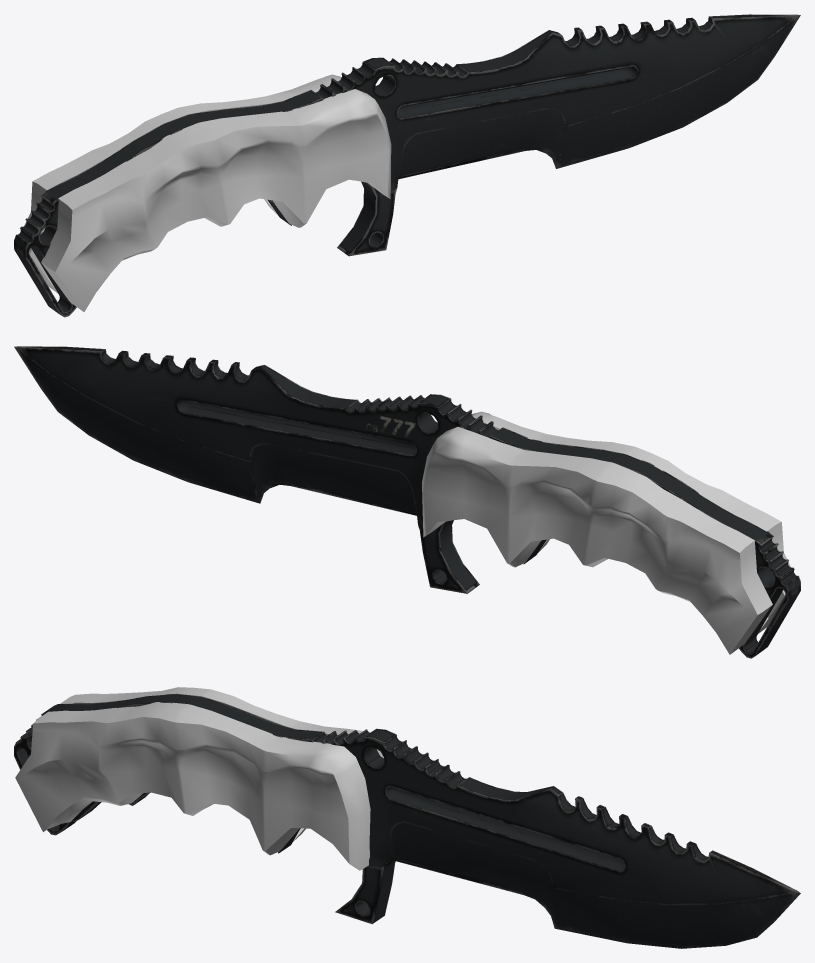
File: uploads_files_4687838_KNIFE_VAR1.fbx
3 renders of one model, top to bottom at view 1: azimuth 30°, elevation 25°; view 2: azimuth 150°, elevation 25°; view 3: azimuth 330°, elevation 25°, orthographic.
Visible parts, largest first — view 1: KNIFE.001, Plane.006, Plane.005; view 2: KNIFE.001, Plane.005, Plane.006; view 3: KNIFE.001, Plane.006, Plane.005.
Part boxes in pixels (bbox=[...]): KNIFE.001: bbox=[14, 14, 800, 317]; Plane.006: bbox=[41, 89, 391, 311]; Plane.005: bbox=[24, 74, 341, 293]; KNIFE.001: bbox=[14, 346, 800, 658]; Plane.005: bbox=[422, 426, 772, 654]; Plane.006: bbox=[472, 411, 790, 633]; KNIFE.001: bbox=[14, 693, 800, 948]; Plane.006: bbox=[15, 702, 370, 870]; Plane.005: bbox=[60, 687, 383, 841].
Size of the model in its own units: 433 by 97.43 by 47.05.
